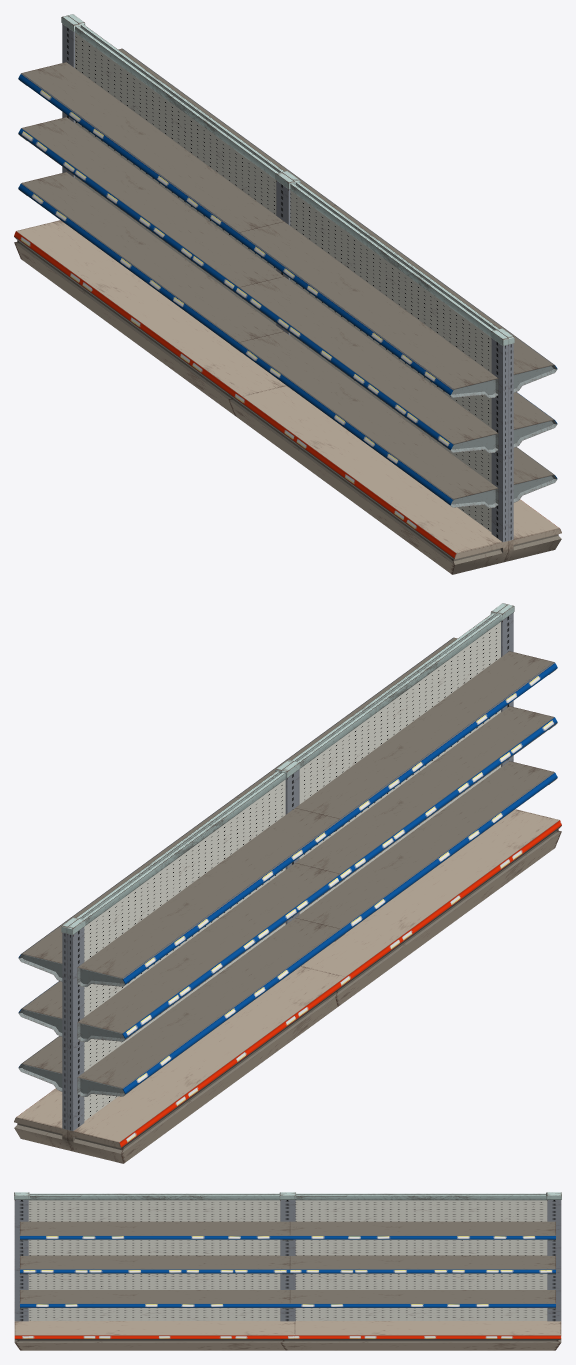
File: Gondola.fbx
The picture shows the model from 3 angles, top to bottom: view 1: azimuth 30°, elevation 25°; view 2: azimuth 150°, elevation 25°; view 3: azimuth 270°, elevation 25°; orthographic projection. The views are drawn at different scales.
Parts seen in each view (by area): view 1: shelf_Base_Expo.004, shelf_Base_Expo.002, shelf_piece_exp023.007, shelf_piece_exp025.007, shelf_piece_exp024.007, shelf_piece_exp025.002, shelf_piece_exp024.002, shelf_piece_exp023.002, shelf_Base_Expo003.003, shelf_piece_exp025.006, shelf_piece_exp024.006, shelf_piece_exp023.006 (+2 smaller); view 2: shelf_Base_Expo.002, shelf_Base_Expo.004, shelf_piece_exp025.002, shelf_piece_exp023.002, shelf_piece_exp024.002, shelf_piece_exp025.007, shelf_piece_exp024.007, shelf_piece_exp023.007, shelf_Base_Expo003.001, shelf_piece_exp025.003, shelf_Base_Expo003.003, shelf_piece_exp024.003 (+2 smaller); view 3: shelf_Base_Expo003.001, shelf_Base_Expo003.003, shelf_piece_exp025.006, shelf_piece_exp024.006, shelf_piece_exp025.003, shelf_piece_exp024.003, shelf_piece_exp023.006, shelf_piece_exp023.003, shelf_Base_Expo.002, shelf_Base_Expo.004.
Boxes of the visible parts, <box> form: shelf_Base_Expo.004: <box>228,172,508,574</box>; shelf_Base_Expo.002: <box>14,15,294,415</box>; shelf_piece_exp023.007: <box>232,331,498,507</box>; shelf_piece_exp025.007: <box>232,221,498,397</box>; shelf_piece_exp024.007: <box>232,276,498,452</box>; shelf_piece_exp025.002: <box>18,62,283,236</box>; shelf_piece_exp024.002: <box>18,117,283,291</box>; shelf_piece_exp023.002: <box>18,172,283,346</box>; shelf_Base_Expo003.003: <box>282,171,561,562</box>; shelf_piece_exp025.006: <box>332,205,557,392</box>; shelf_piece_exp024.006: <box>513,392,557,447</box>; shelf_piece_exp023.006: <box>513,447,557,502</box>; shelf_Base_Expo.002: <box>67,761,345,1163</box>; shelf_Base_Expo.004: <box>281,604,561,1006</box>; shelf_piece_exp025.002: <box>77,808,340,986</box>; shelf_piece_exp023.002: <box>77,918,340,1096</box>; shelf_piece_exp024.002: <box>77,863,340,1041</box>; shelf_piece_exp025.007: <box>295,651,557,828</box>; shelf_piece_exp024.007: <box>295,706,557,883</box>; shelf_piece_exp023.007: <box>295,761,557,938</box>; shelf_Base_Expo003.001: <box>14,760,293,1151</box>; shelf_piece_exp025.003: <box>18,797,239,981</box>; shelf_Base_Expo003.003: <box>275,603,507,773</box>; shelf_piece_exp024.003: <box>18,981,62,1036</box>; shelf_Base_Expo003.001: <box>279,1194,561,1350</box>; shelf_Base_Expo003.003: <box>14,1194,296,1350</box>; shelf_piece_exp025.006: <box>20,1221,290,1240</box>; shelf_piece_exp024.006: <box>20,1255,290,1274</box>; shelf_piece_exp025.003: <box>285,1221,555,1240</box>; shelf_piece_exp024.003: <box>285,1255,555,1274</box>; shelf_piece_exp023.006: <box>20,1290,290,1308</box>; shelf_piece_exp023.003: <box>285,1290,555,1308</box>; shelf_Base_Expo.002: <box>279,1192,561,1195</box>; shelf_Base_Expo.004: <box>14,1192,296,1195</box>.
Size of the model in its own units: 77.67 by 157 by 554.
Materials: 12 (12 with a texture image).
